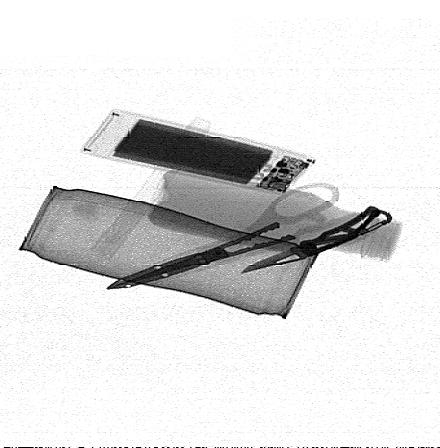Knife: (236, 206, 394, 273)
Powerbank: (81, 109, 318, 195)
Scissors: (99, 181, 378, 289)
